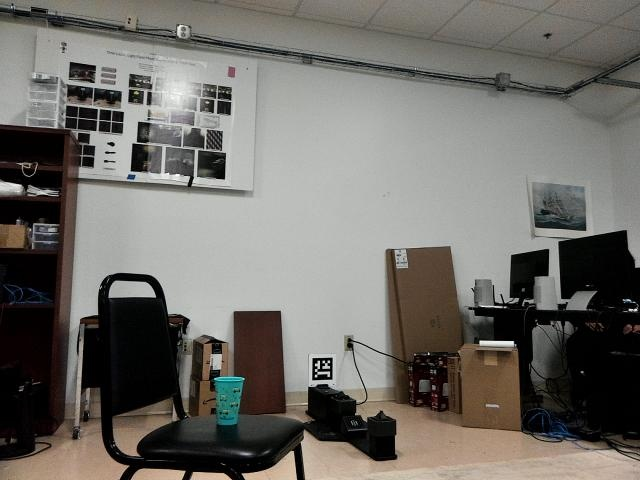coffee_cup: (212, 374, 245, 429)
